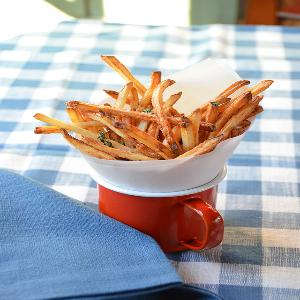fries: (46, 81, 262, 157)
